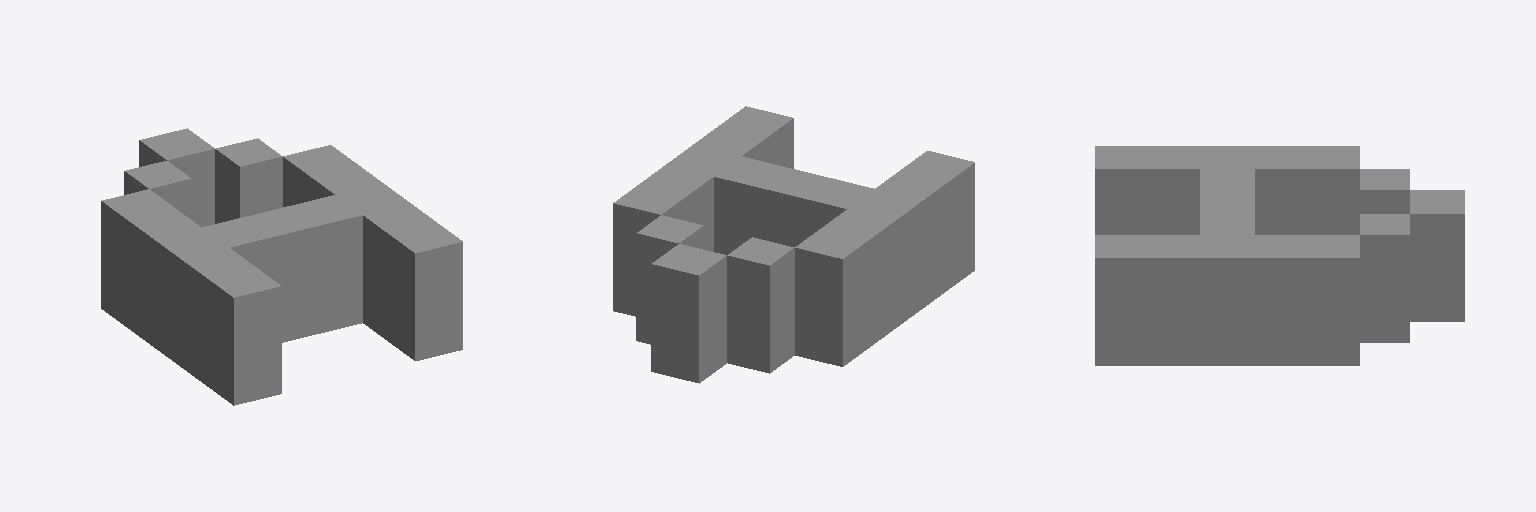
3 renders of one model, left to right at view 1: azimuth 30°, elevation 25°; view 2: azimuth 150°, elevation 25°; view 3: azimuth 270°, elevation 25°, orthographic.
Parts seen in each view (by area): view 1: A_CUABC.001; view 2: A_CUABC.001; view 3: A_CUABC.001.
Boxes of the visible parts, x1,y1,x2,y2 form: A_CUABC.001: [101, 128, 462, 405]; A_CUABC.001: [613, 106, 974, 383]; A_CUABC.001: [1095, 146, 1464, 365].
Size of the model in its own units: 0.5567 by 0.25 by 0.7778.